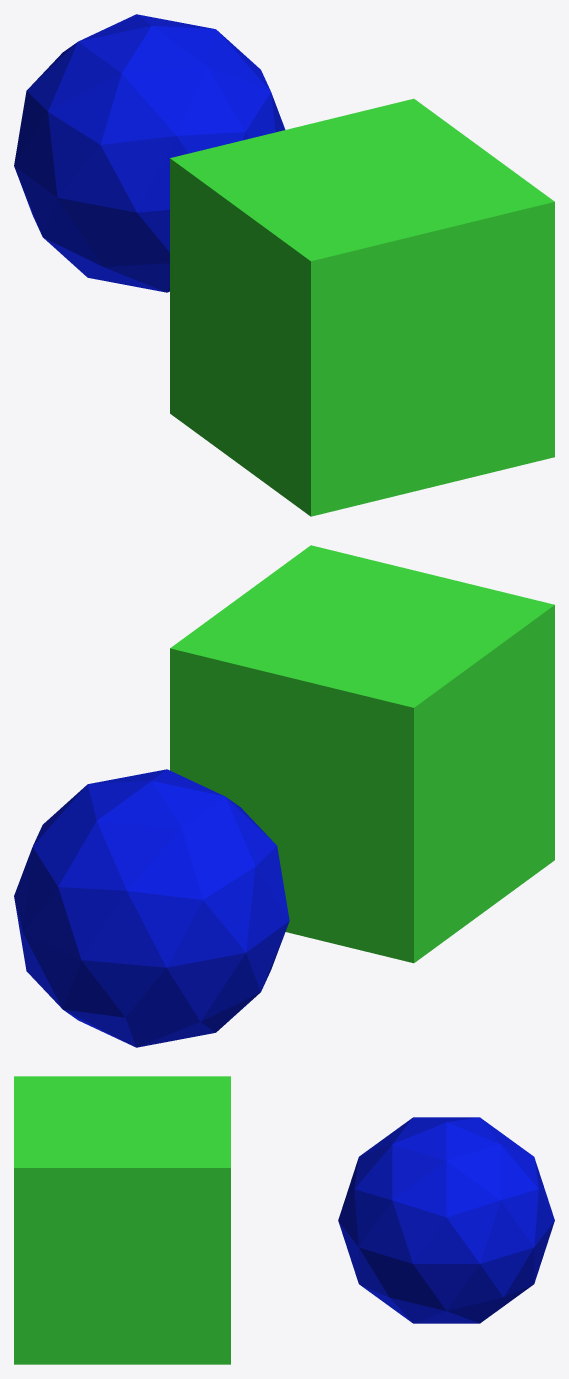
File: scene-debug.glb
The picture shows the model from 3 angles, top to bottom: view 1: azimuth 30°, elevation 25°; view 2: azimuth 150°, elevation 25°; view 3: azimuth 270°, elevation 25°; orthographic projection. The views are drawn at different scales.
Visible parts, largest first — view 1: Cube; view 2: Cube; view 3: Cube.
Boxes of the visible parts, x1,y1,x2,y2 form: Cube: (14,14,554,516); Cube: (14,545,554,1047); Cube: (14,1076,554,1364).
Bounding box in the file's own units: 2 × 2 × 4.99.
